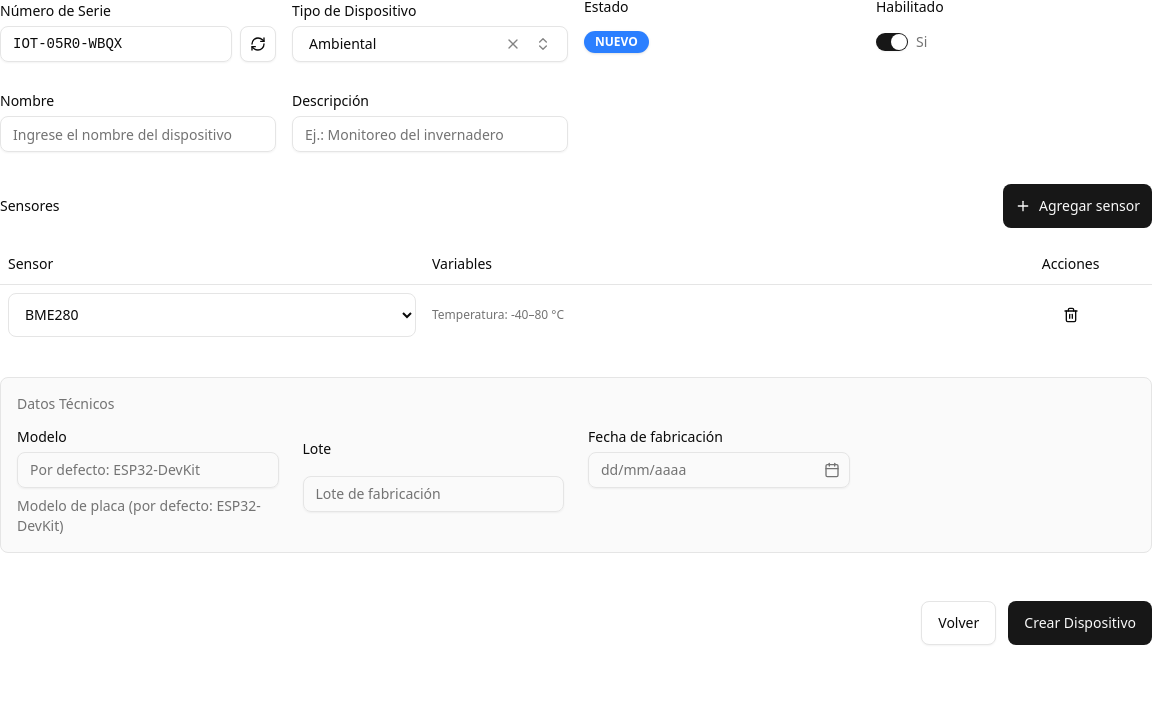
Test: DeviceForm › only offers models compatible with the selected type and hides the table for types without sensors
expect the number of dropdowns named "Modelo del sensor 1" is 1: met, box [8,292,416,336]
Click the button "Agregar sensor".
click(1077, 206)  # box [1003,184,1151,228]
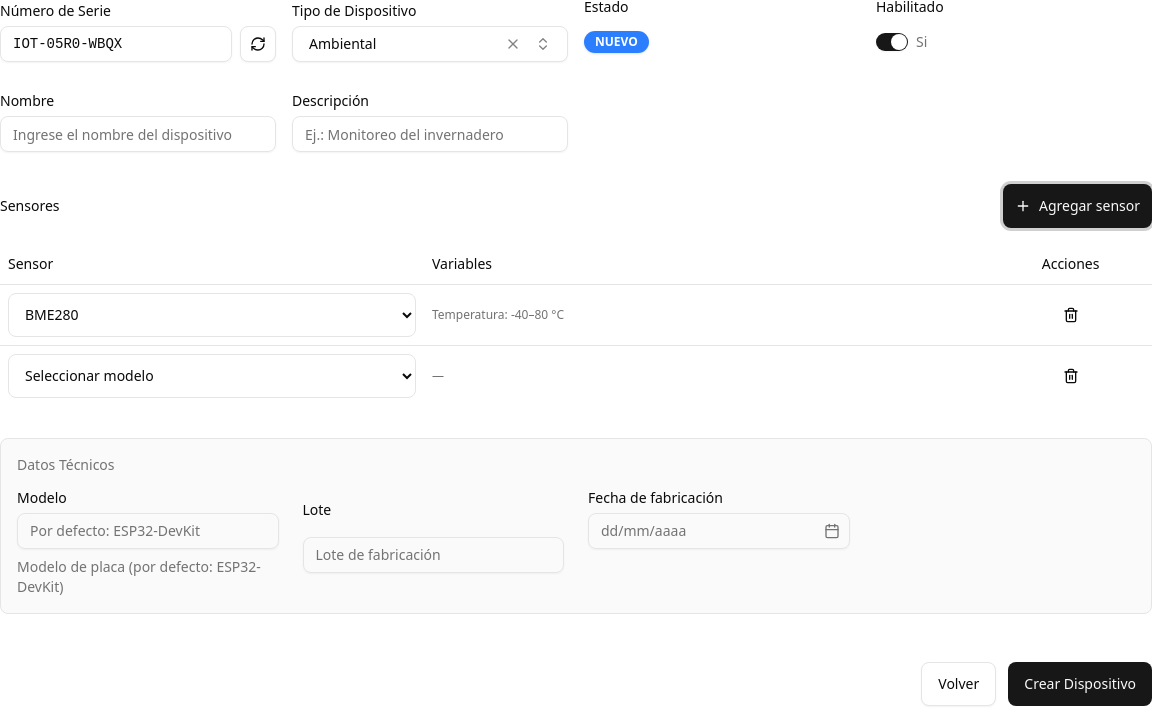
Click the dropdown "Ambiental".
click(343, 44)  # box [292,26,568,62]
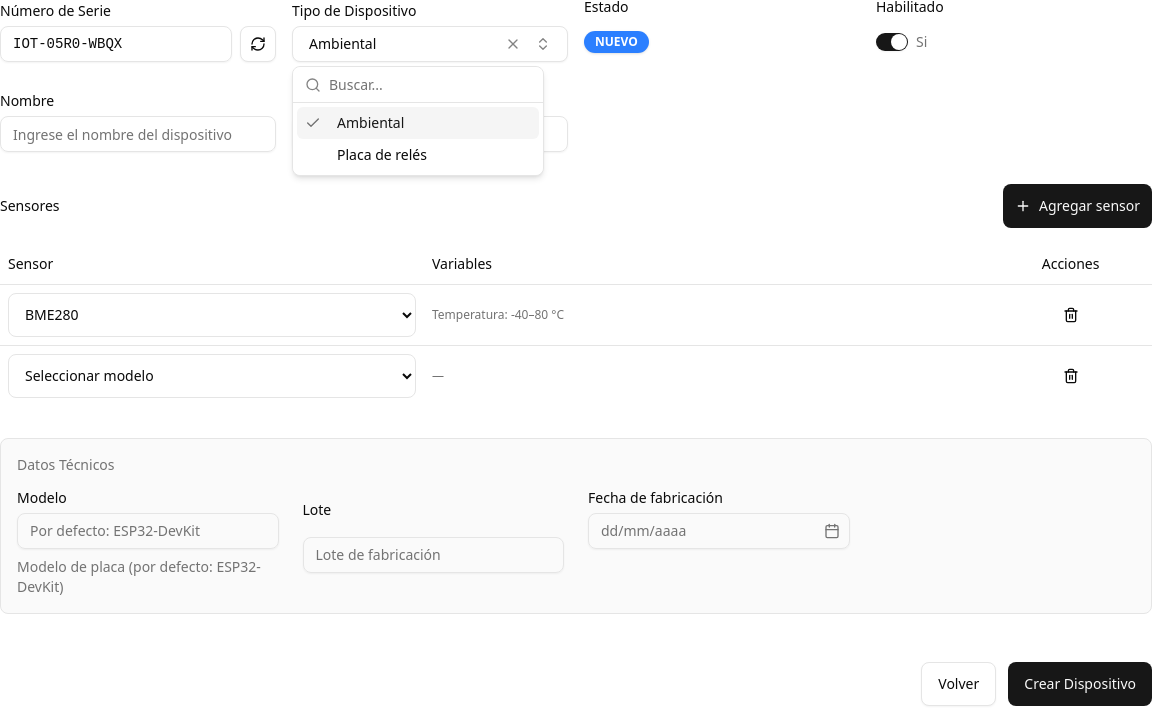
Click the option "Placa de relés".
click(382, 154)  # box [337,145,427,164]
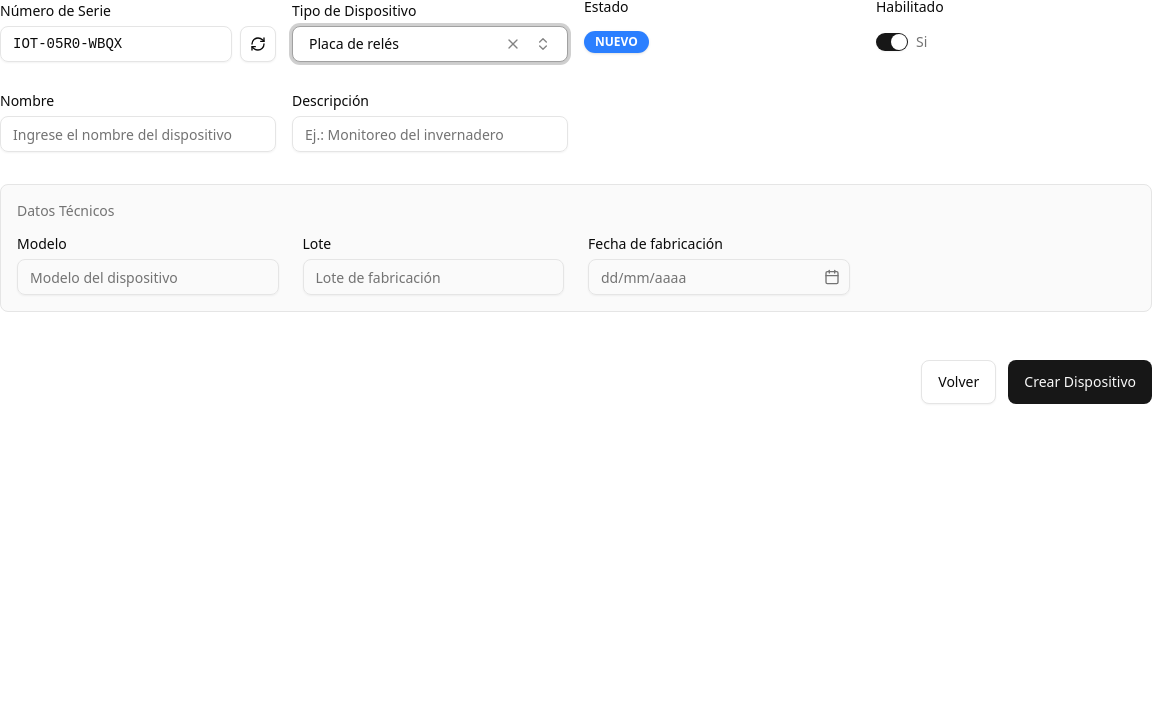
expect the heading "Sensores" is gone: met
Click the dropdown "Placa de relés".
click(354, 44)  # box [292,26,568,62]
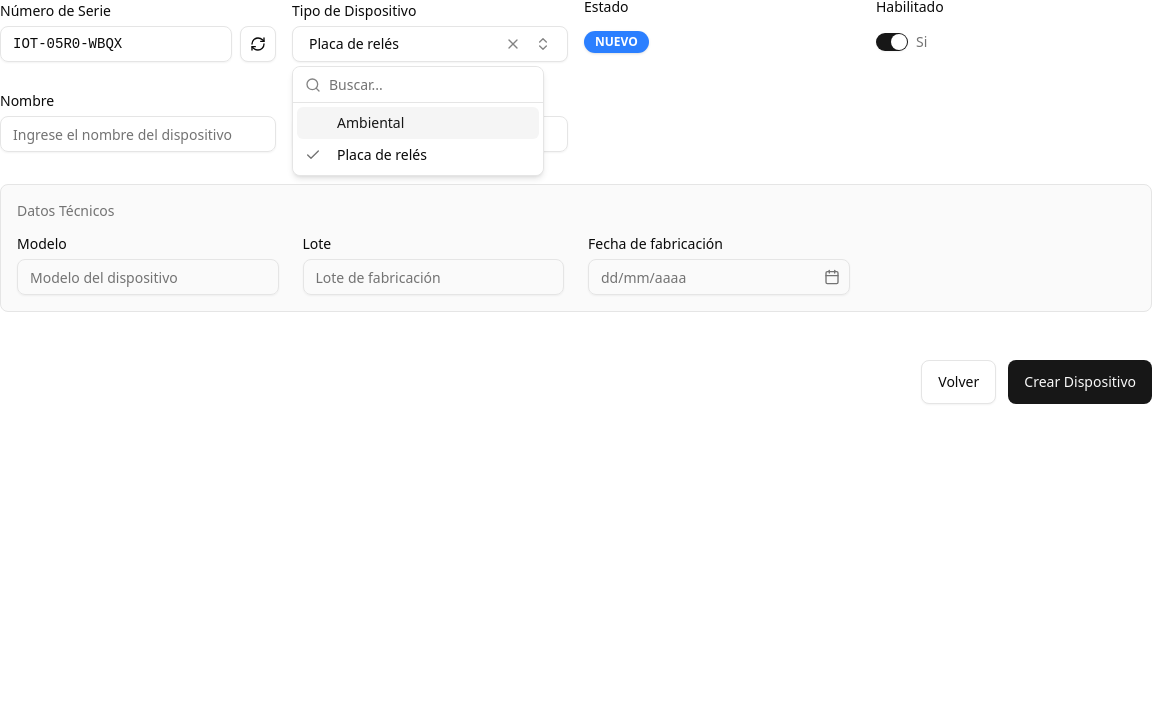
Click the option "Ambiental".
click(418, 123)  # box [297,107,539,139]
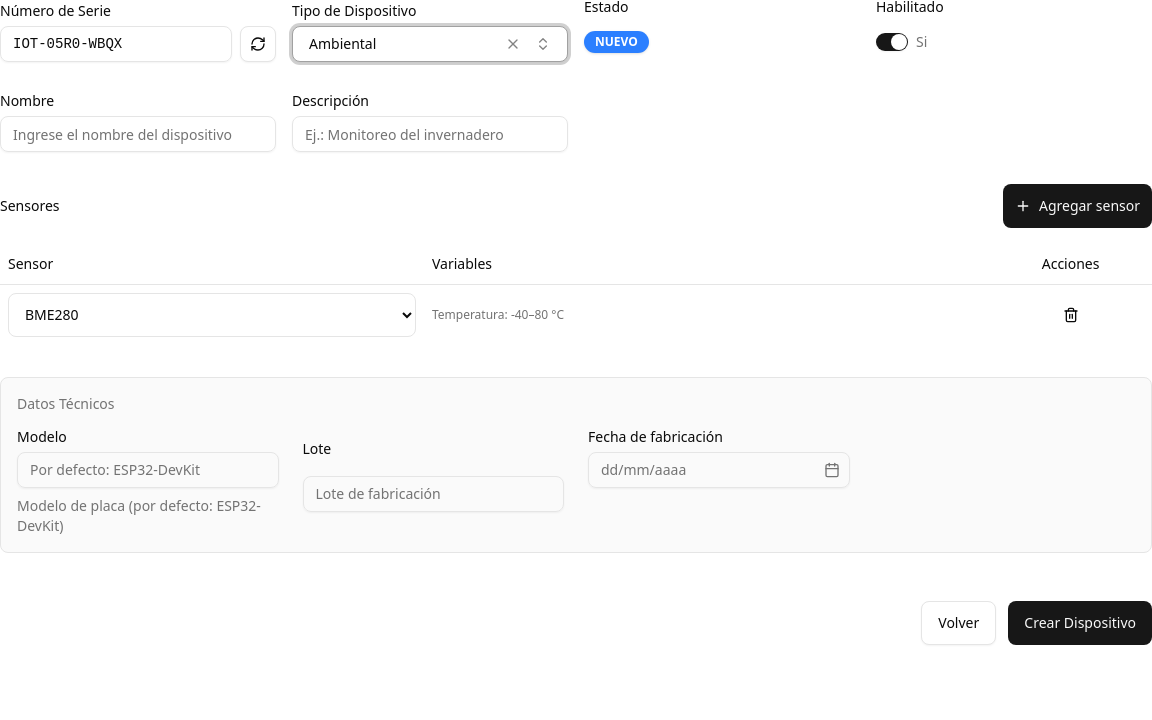
expect the number of dropdowns named "Modelo del sensor 1" is 1: met, box [8,292,416,336]
expect the dropdown named "Modelo del sensor 1" shows "BME280": met, box [8,292,416,336]
